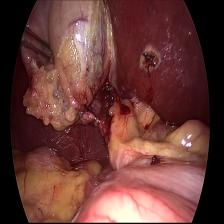Grasper: (20, 22, 57, 71)
